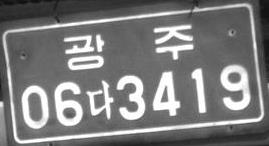0: (20, 83, 50, 130)
1: (185, 67, 213, 113)
3: (115, 73, 146, 121)
4: (151, 70, 181, 117)
6: (53, 80, 84, 127)
9: (219, 63, 252, 112)
광주_D: (63, 22, 195, 70)
다: (85, 78, 114, 120)
